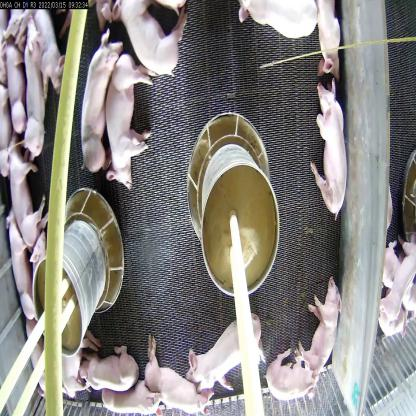Pig: (96, 0, 191, 78), (181, 314, 270, 394), (100, 53, 149, 196), (136, 332, 212, 413), (78, 27, 118, 175), (2, 128, 51, 245), (309, 78, 347, 222), (295, 272, 341, 382), (232, 0, 322, 44), (28, 8, 70, 102), (4, 207, 36, 326), (20, 23, 47, 161), (260, 347, 317, 408), (72, 342, 135, 396), (25, 229, 60, 325), (307, 0, 347, 84), (379, 236, 415, 328), (0, 31, 28, 142), (96, 374, 164, 415)
